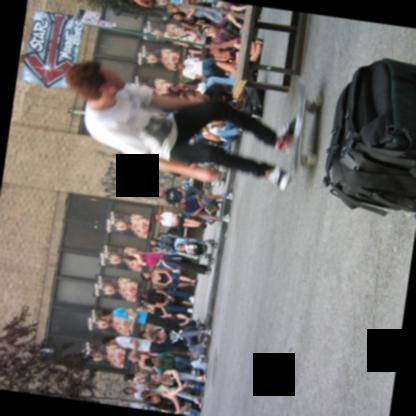backpack: (322, 58, 416, 219)
handbag: (176, 33, 191, 39)
suitcase: (323, 56, 416, 215)
